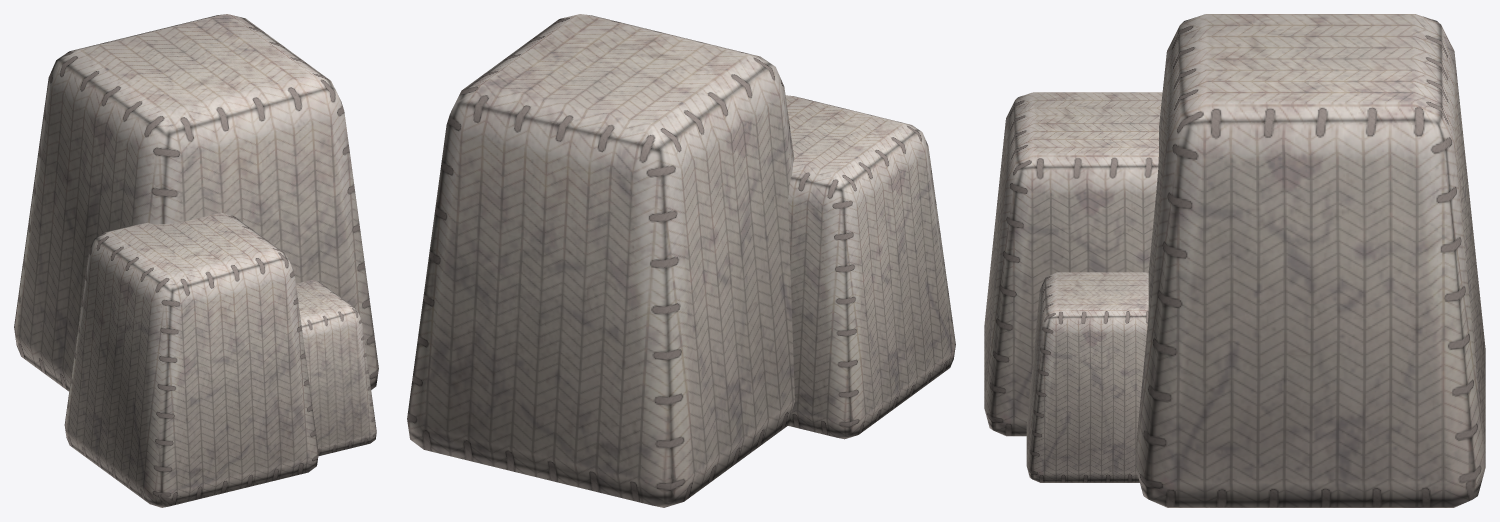
The model's file is lpb_cs_Rock2.fbx.
The picture shows the model from 3 angles, left to right: view 1: azimuth 30°, elevation 25°; view 2: azimuth 150°, elevation 25°; view 3: azimuth 270°, elevation 25°; orthographic projection. The views are drawn at different scales.
Visible parts, largest first — view 1: lpb_cs_Rock2; view 2: lpb_cs_Rock2; view 3: lpb_cs_Rock2.
Part boxes in pixels (x1,y1,x2,y2): lpb_cs_Rock2: (14,14,378,507); lpb_cs_Rock2: (407,14,955,507); lpb_cs_Rock2: (984,14,1485,507).
Size of the model in its own units: 59.18 by 60.32 by 70.36.
